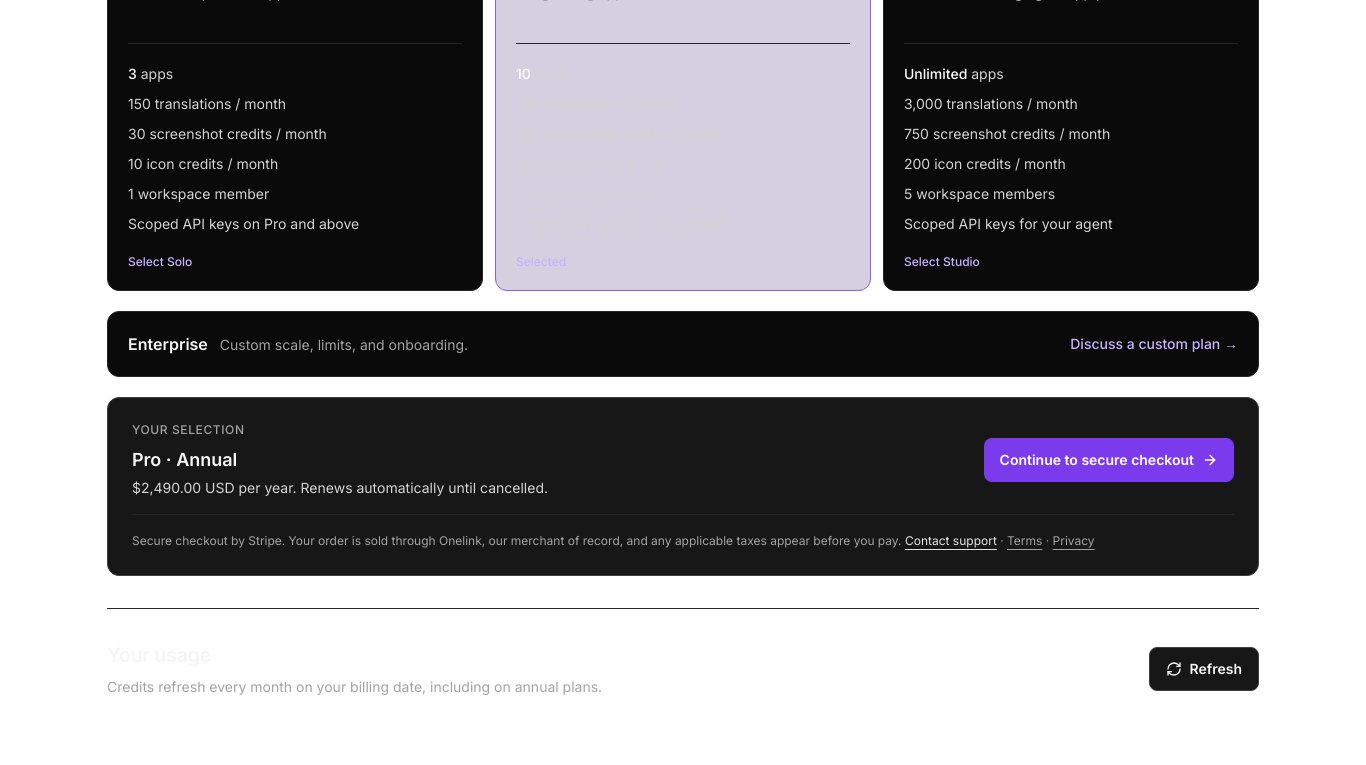
it: billing client lifecycle › removes stale checkout actions if a later subscription refresh fails
(page scrolled)
Expected: the button "Continue to secure checkout" is shown, [984,438,1234,482]
What coordinates should you click on to do the following:
click the button "Refresh"
I would click on:
 (1204, 669)
Its box is [1148,647,1259,691].
(page scrolled)
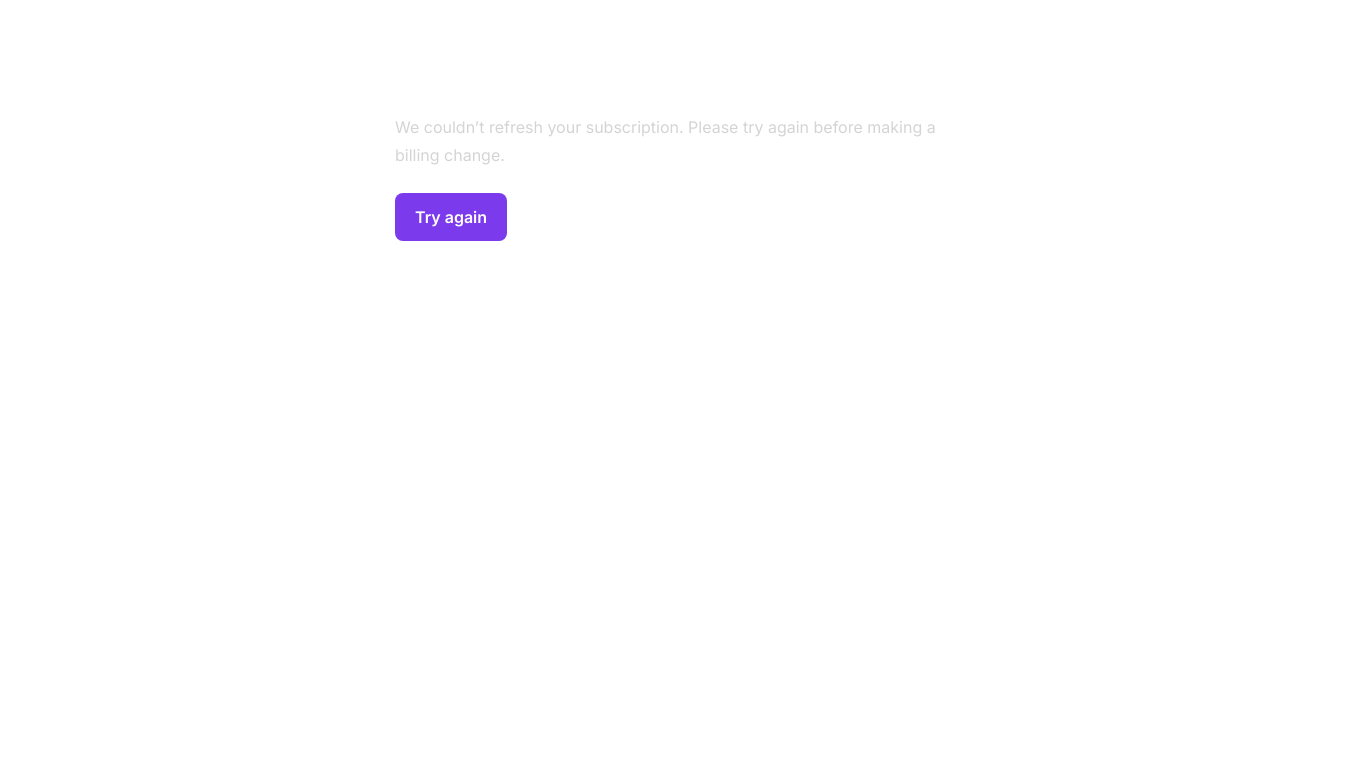
Now the message is shown, box [395,113,971,169]
Now the button "Continue to secure checkout" is gone
